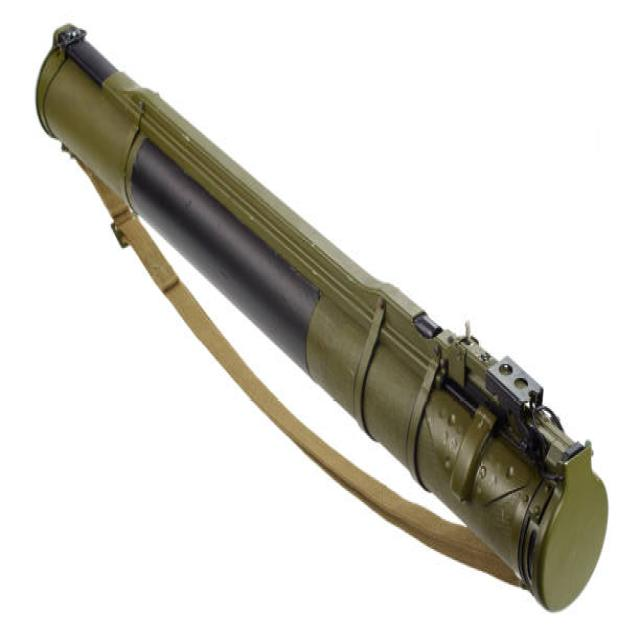bazooka: (30, 11, 615, 619)
